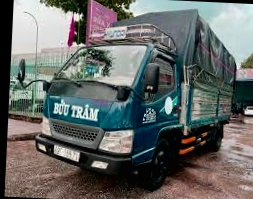Bien-so: (36, 140, 63, 158)
